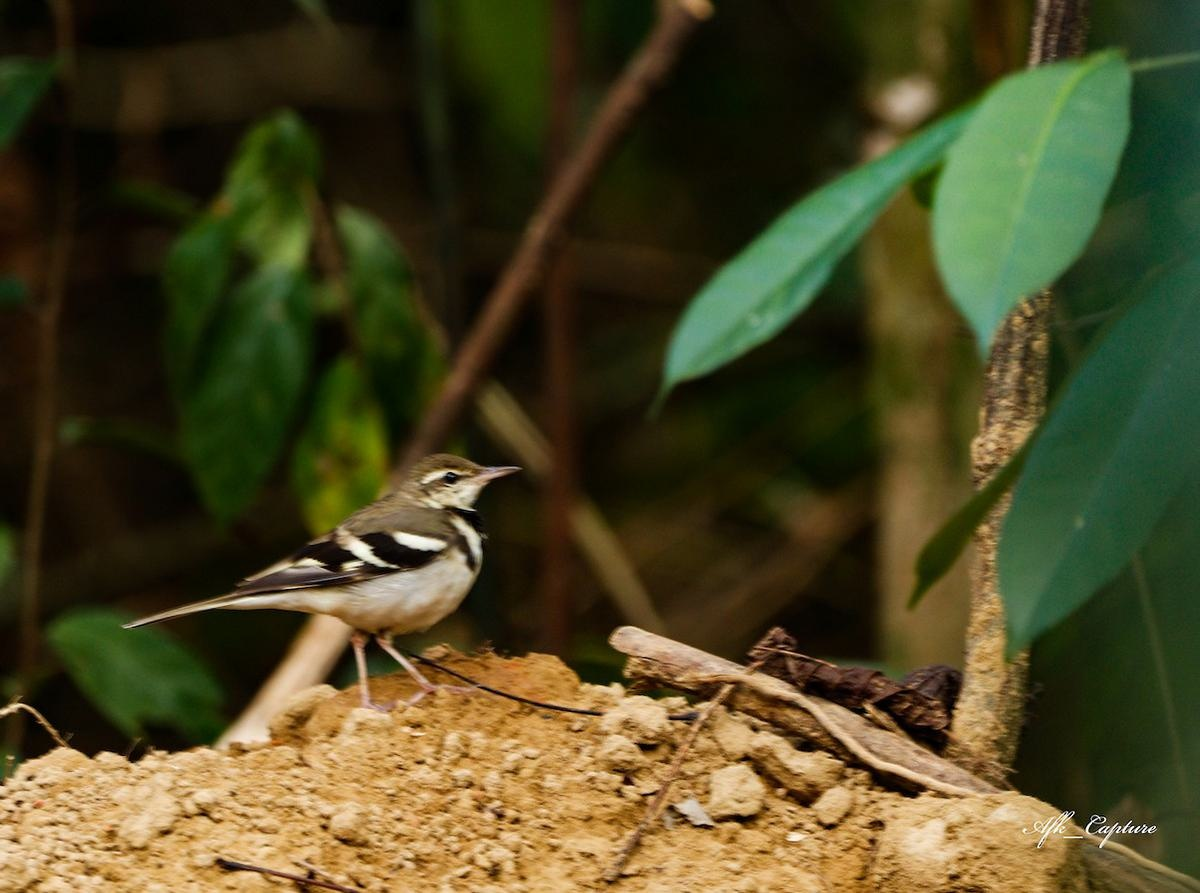wagtail: (161, 442, 540, 697)
